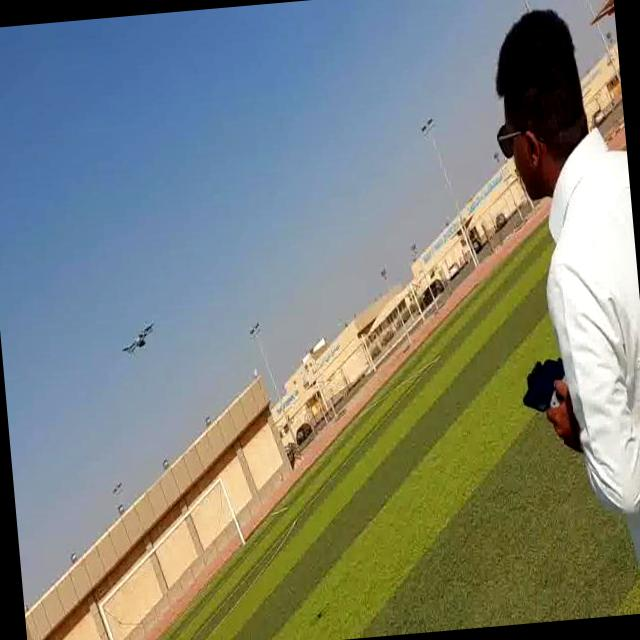drone: (115, 310, 158, 366)
